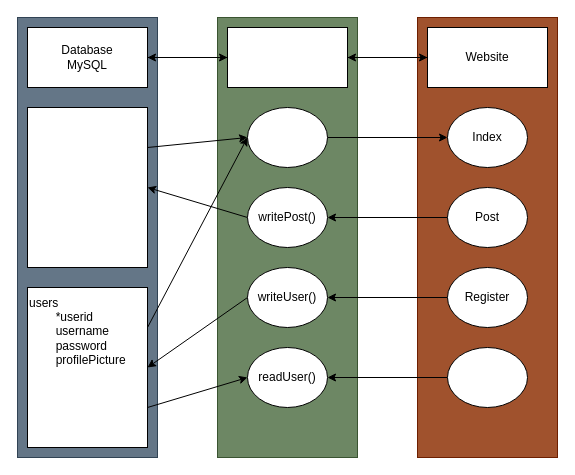
Image size: 575x475. Some labels were removed from this diagram. The shapes that lost their labels are listed below. From the top down, each one's box as (x1, y1, x2, y2) in pixels, then its label:
(226, 26, 348, 88): API Spring Boot
(246, 106, 328, 168): readPosts()
(26, 106, 148, 268): posts *postid userid text pictures date time likeCount dislikeCount commentCount
(446, 346, 528, 408): Login
